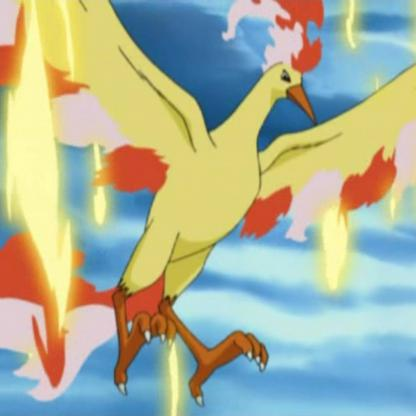Moltres: (1, 1, 416, 373)
